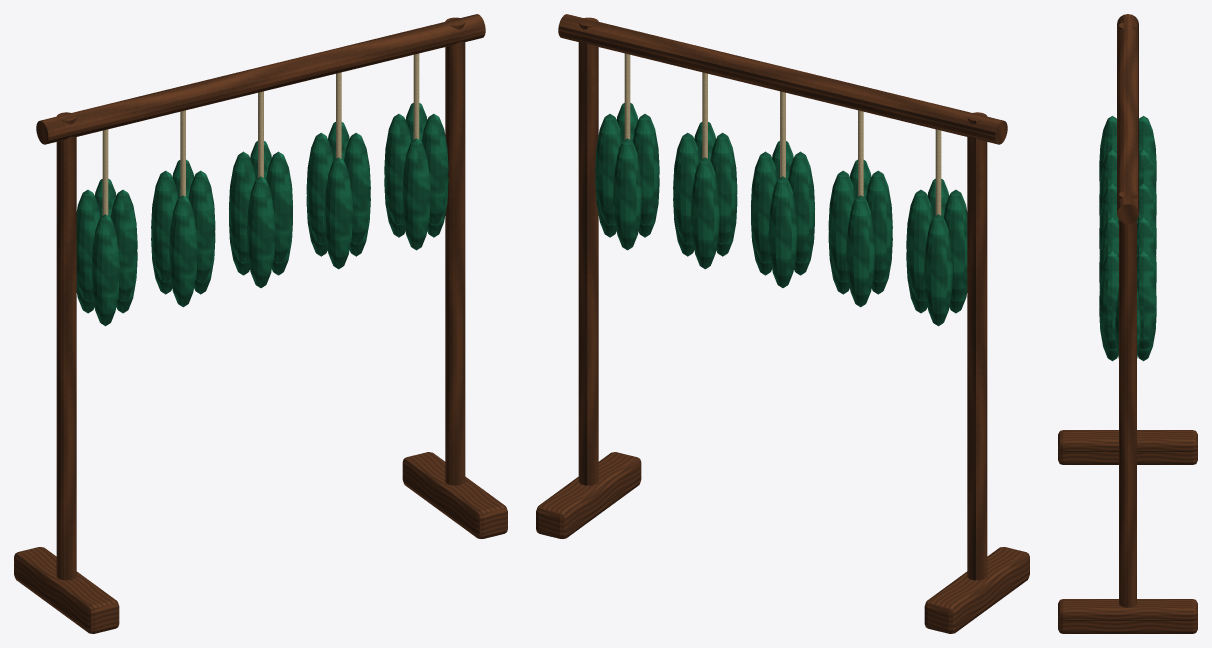
The model's file is drying_herbs.glb.
3 renders of one model, left to right at view 1: azimuth 30°, elevation 25°; view 2: azimuth 150°, elevation 25°; view 3: azimuth 270°, elevation 25°, orthographic. The views are drawn at different scales.
Parts seen in each view (by area): view 1: drying_herbs_Walnut, drying_herbs_Jade, drying_herbs_Paper; view 2: drying_herbs_Walnut, drying_herbs_Jade, drying_herbs_Paper; view 3: drying_herbs_Walnut, drying_herbs_Jade.
Boxes of the visible parts, x1,y1,x2,y2 form: drying_herbs_Walnut: (14,14,507,633); drying_herbs_Jade: (76,103,448,326); drying_herbs_Paper: (102,53,419,215); drying_herbs_Walnut: (536,14,1029,633); drying_herbs_Jade: (595,103,967,326); drying_herbs_Paper: (624,53,941,215); drying_herbs_Walnut: (1058,14,1197,633); drying_herbs_Jade: (1099,116,1156,361).
Size of the model in its own units: 2.25 by 2.41 by 0.7.
Materials: 3 (3 with a texture image).
